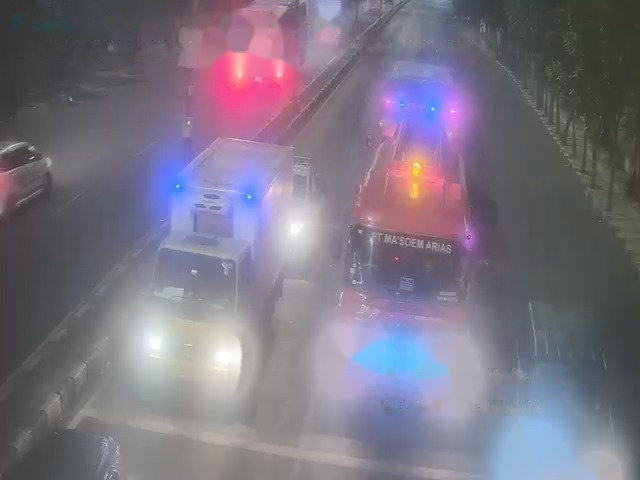Mobil: (512, 298, 616, 480), (0, 136, 50, 212), (295, 159, 331, 236)
Truk: (141, 138, 298, 396), (352, 120, 496, 395), (372, 45, 463, 134)
